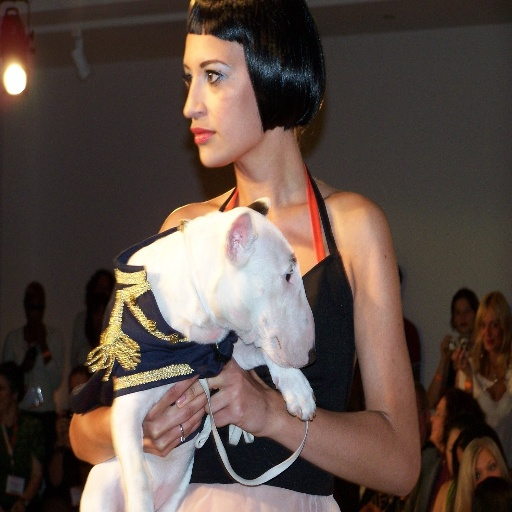hand: (174, 355, 278, 434), (143, 360, 222, 455), (450, 344, 471, 376), (20, 348, 37, 372), (32, 319, 47, 345), (438, 334, 453, 360)
